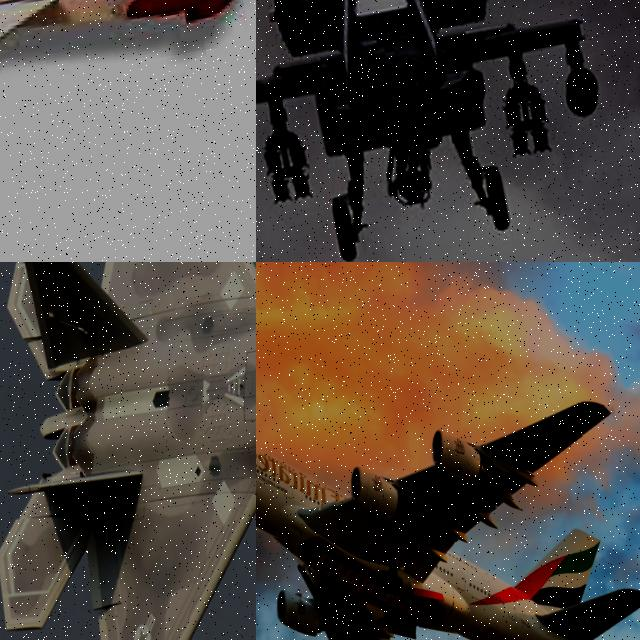A380: (256, 360, 640, 640)
Apache: (256, 0, 640, 262)
F22: (0, 262, 256, 640)
KT-1: (0, 0, 256, 204)
